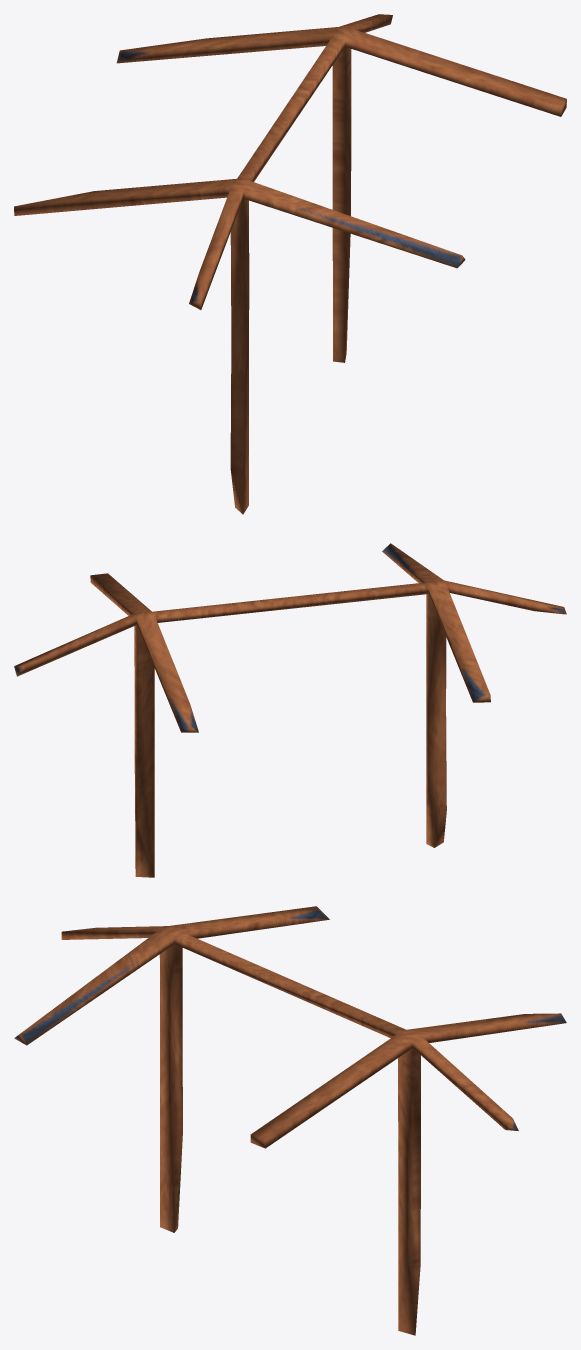
The model's file is newCabinaSoportes.fbx.
3 views of the same model, one above another, from view 1: azimuth 30°, elevation 25°; view 2: azimuth 150°, elevation 25°; view 3: azimuth 270°, elevation 25° (orthographic). The views are drawn at different scales.
Parts seen in each view (by area): view 1: newCabinaSoportes; view 2: newCabinaSoportes; view 3: newCabinaSoportes.
Boxes of the visible parts, box(x1,y1,x2,y2) form: newCabinaSoportes: box(14, 14, 566, 514); newCabinaSoportes: box(14, 543, 566, 877); newCabinaSoportes: box(14, 906, 566, 1335).
Bounding box in the file's own units: 192 × 114 × 191.
